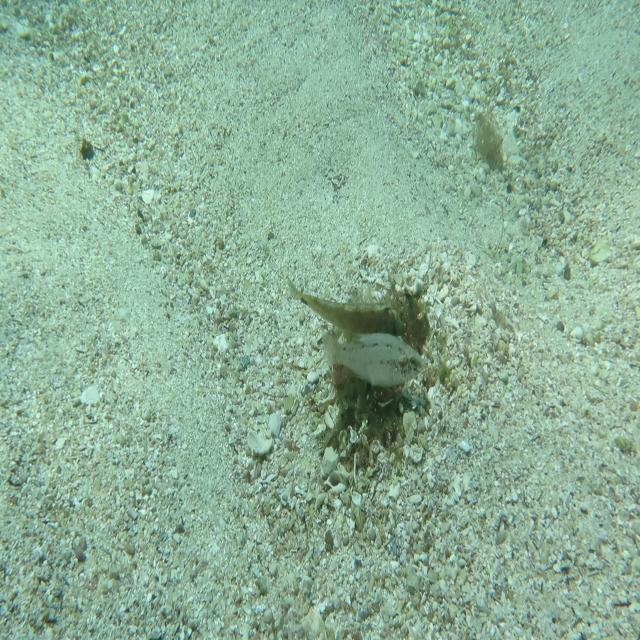ROLL: (284, 272, 408, 341)
female: (319, 324, 427, 393)
nest: (314, 260, 449, 479)
